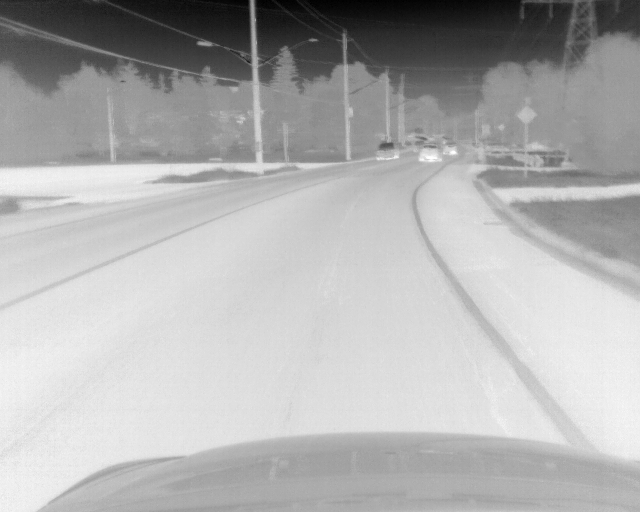car: (417, 143, 442, 165), (376, 142, 398, 161), (442, 141, 457, 156)
